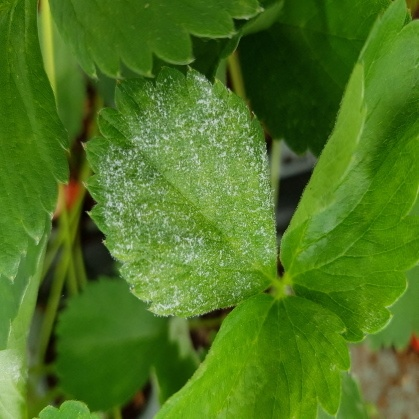Powdery_Leaf: (53, 0, 418, 214), (141, 101, 338, 354)
